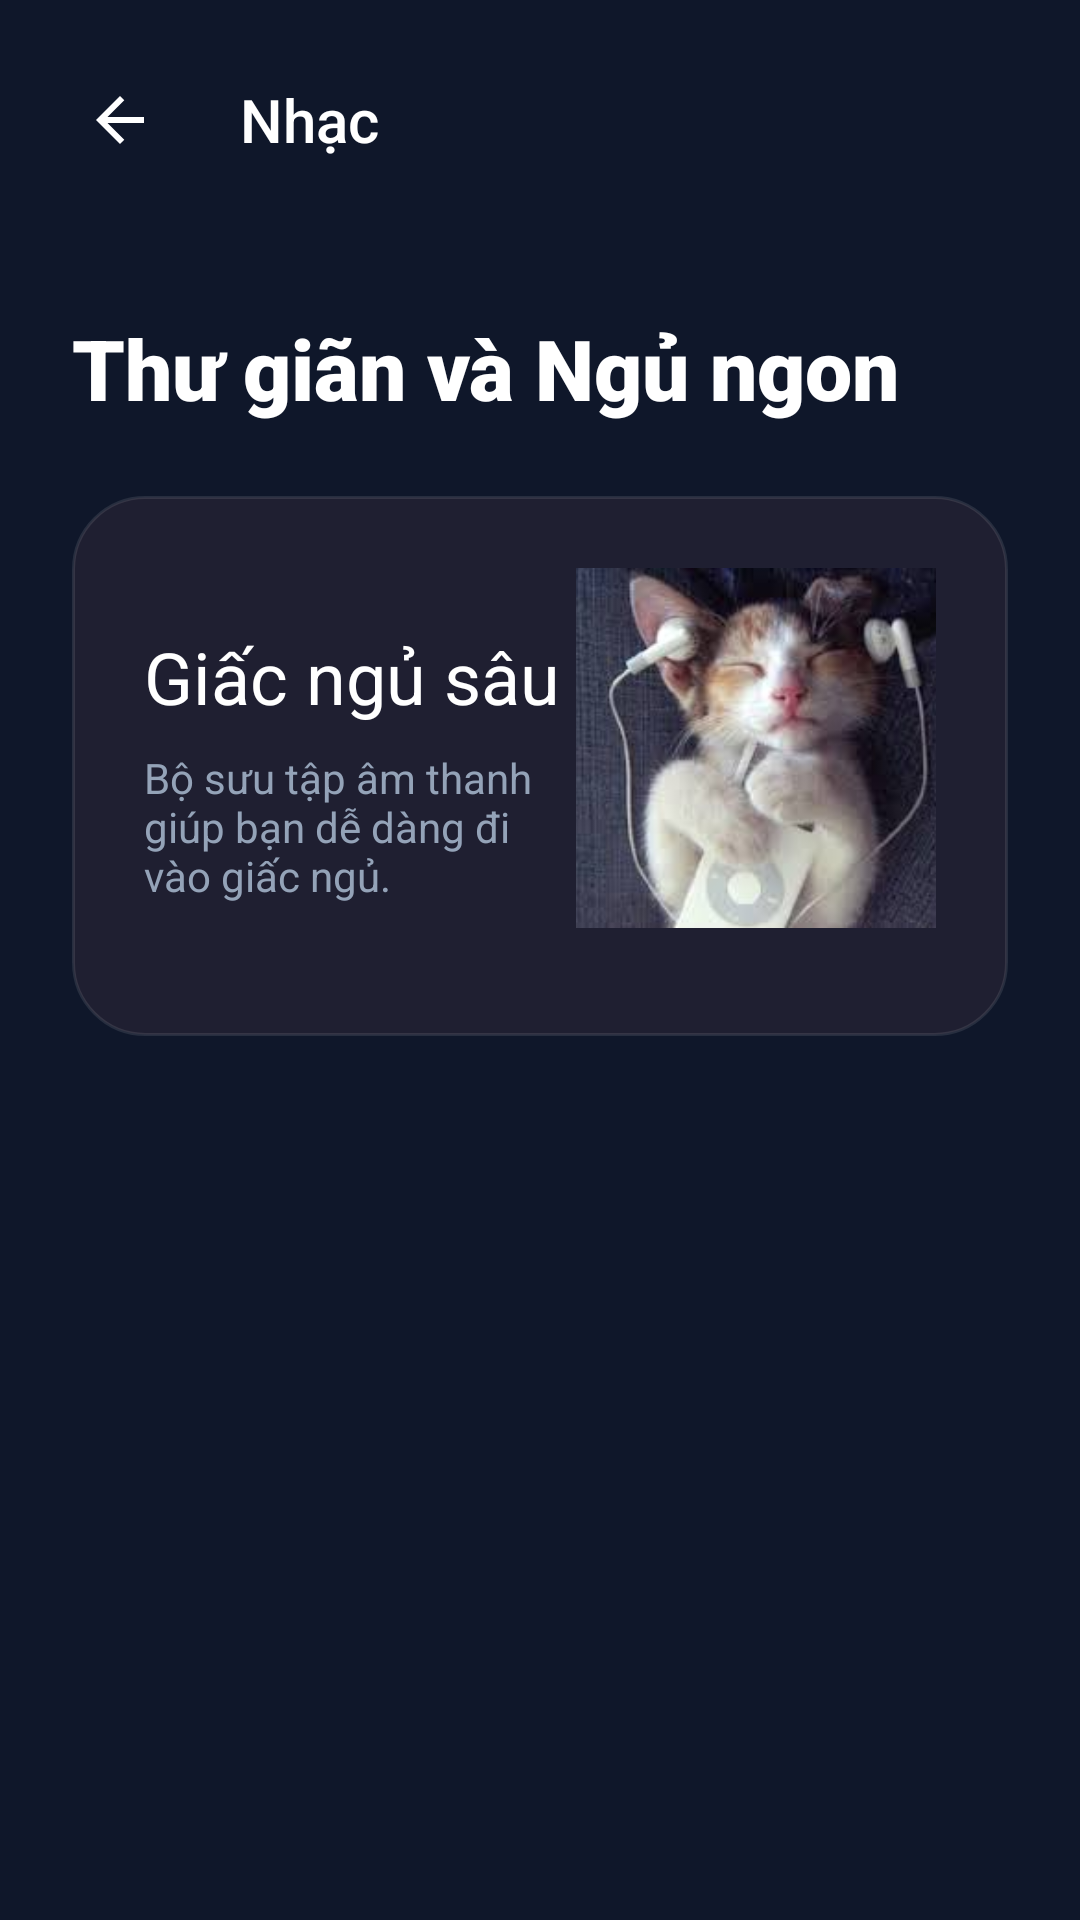

Locate icon controls on the screen. Image size 1080 × 1920, boxes as (x1, y1, x2, y2).
arrow back: (96, 96, 144, 144)
cat music: (576, 568, 936, 928)
